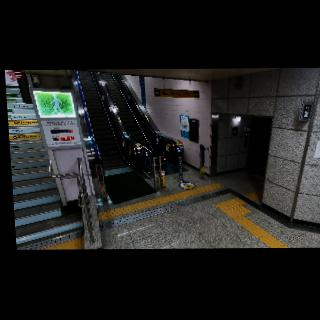anomaly: (153, 149, 170, 173)
